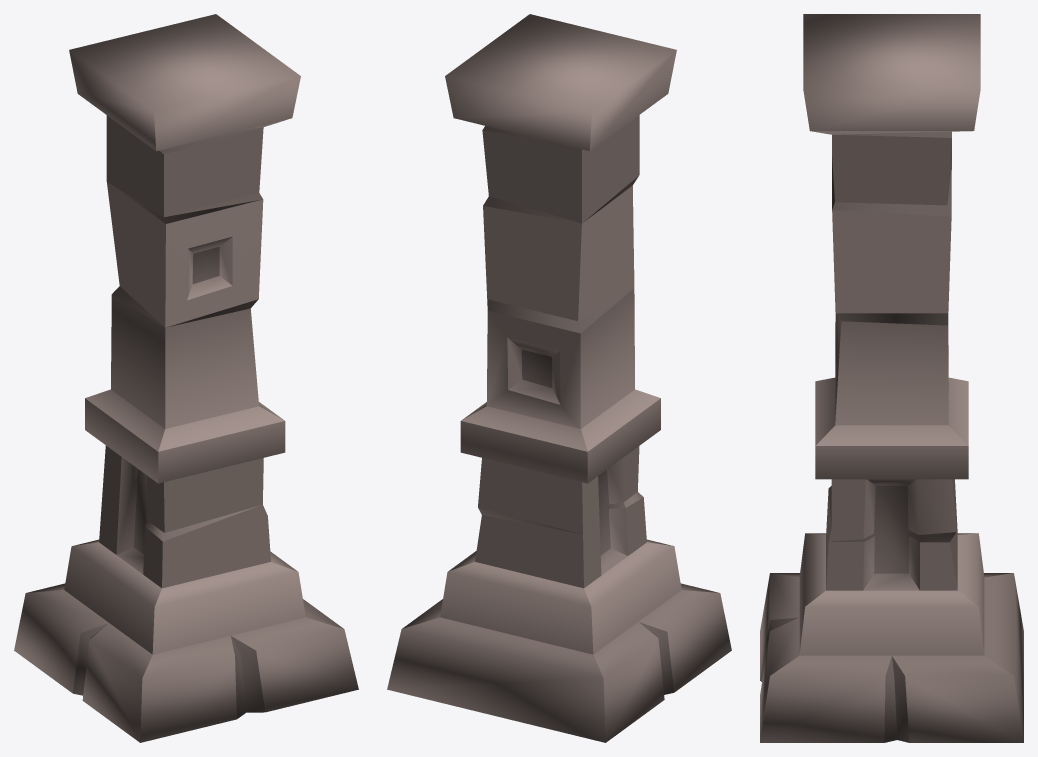
Rendered from Colon.fbx.
3 renders of one model, left to right at view 1: azimuth 30°, elevation 25°; view 2: azimuth 150°, elevation 25°; view 3: azimuth 270°, elevation 25°, orthographic. The views are drawn at different scales.
Visible parts, largest first — view 1: Plane.002; view 2: Plane.002; view 3: Plane.002.
Boxes of the visible parts, x1=… form: Plane.002: x1=14, y1=14, x2=358, y2=742; Plane.002: x1=387, y1=14, x2=731, y2=742; Plane.002: x1=760, y1=14, x2=1023, y2=742.
Bounding box in the file's own units: 118 × 312 × 118.
